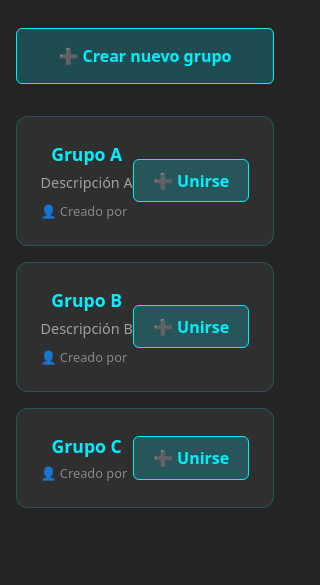
Test case: BrowseGroups › maneja error al unirse a un grupo
Expected: the text "Grupo A" is shown, [51,142,122,166]
Click the button "➕ Unirse" next to "Descripción A".
click(191, 181)  # box [133,159,250,202]
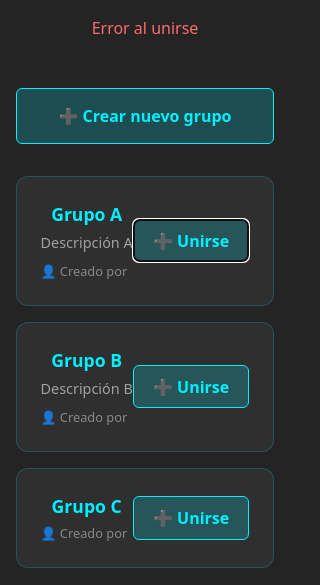
Result: the text "Error al unirse" is shown at [92,17,198,39]
